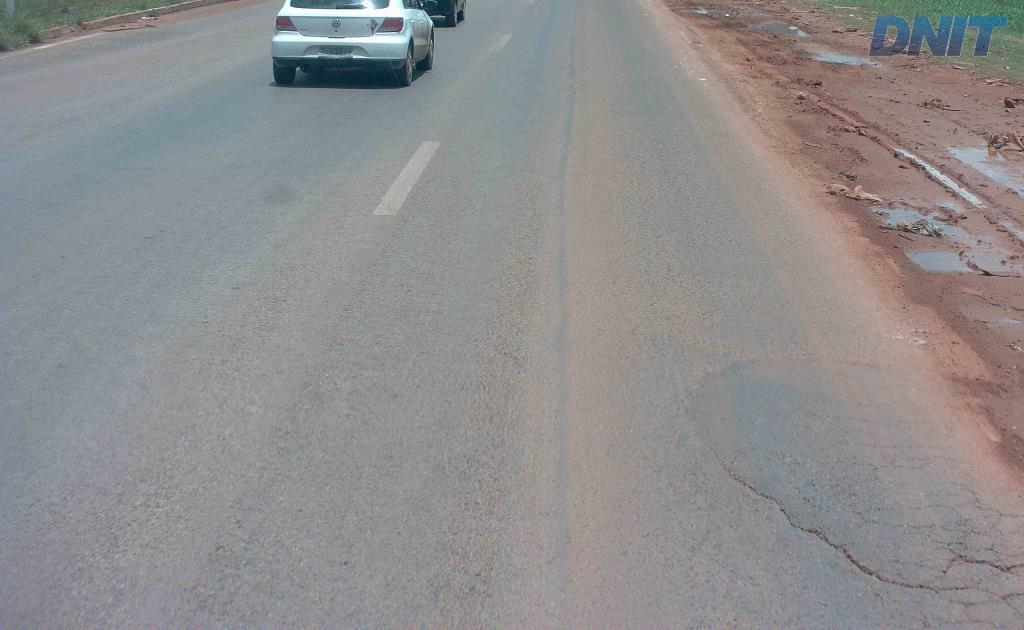crack: (779, 507, 889, 579), (946, 549, 1023, 574)
